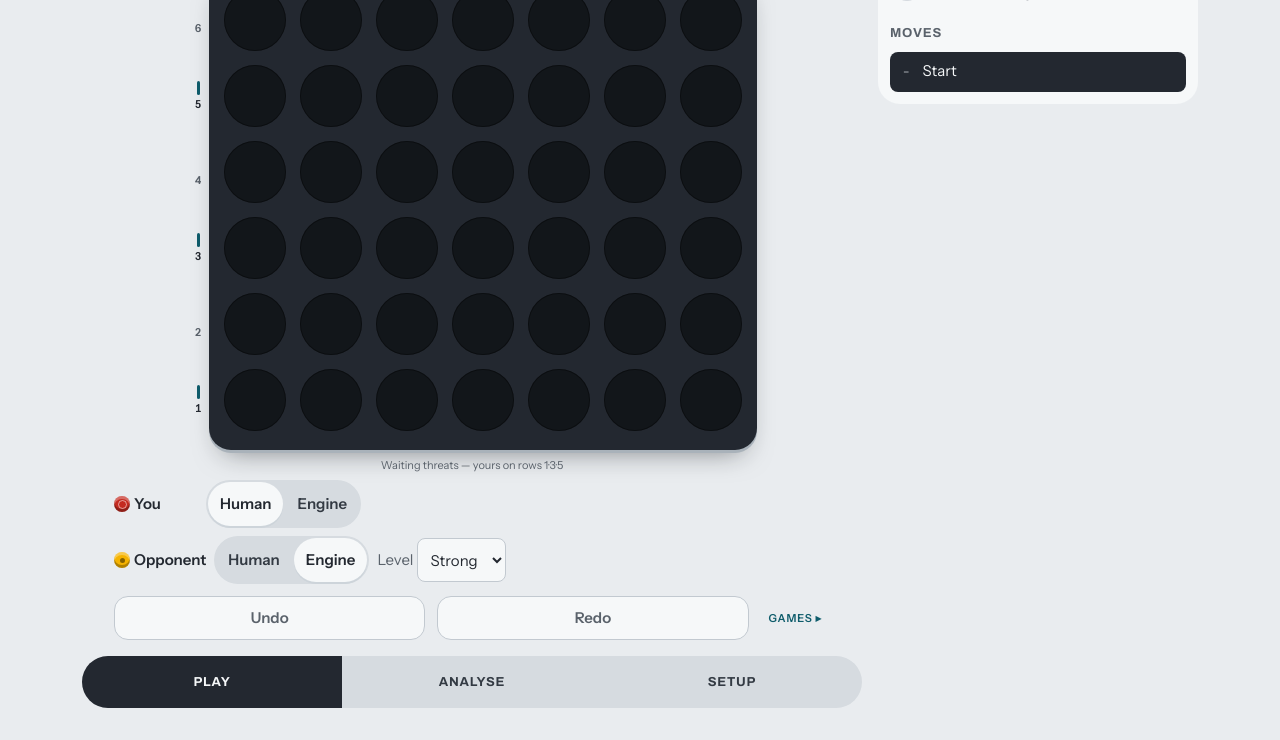
Test: setup verdict surfacing › Done is enabled for a legal, empty position
The width and height of the screenshot is (1280, 740).
(page scrolled)
Click the tab "SETUP" at (732, 682), box x1=602 y1=656 x2=862 y2=708
(page scrolled)
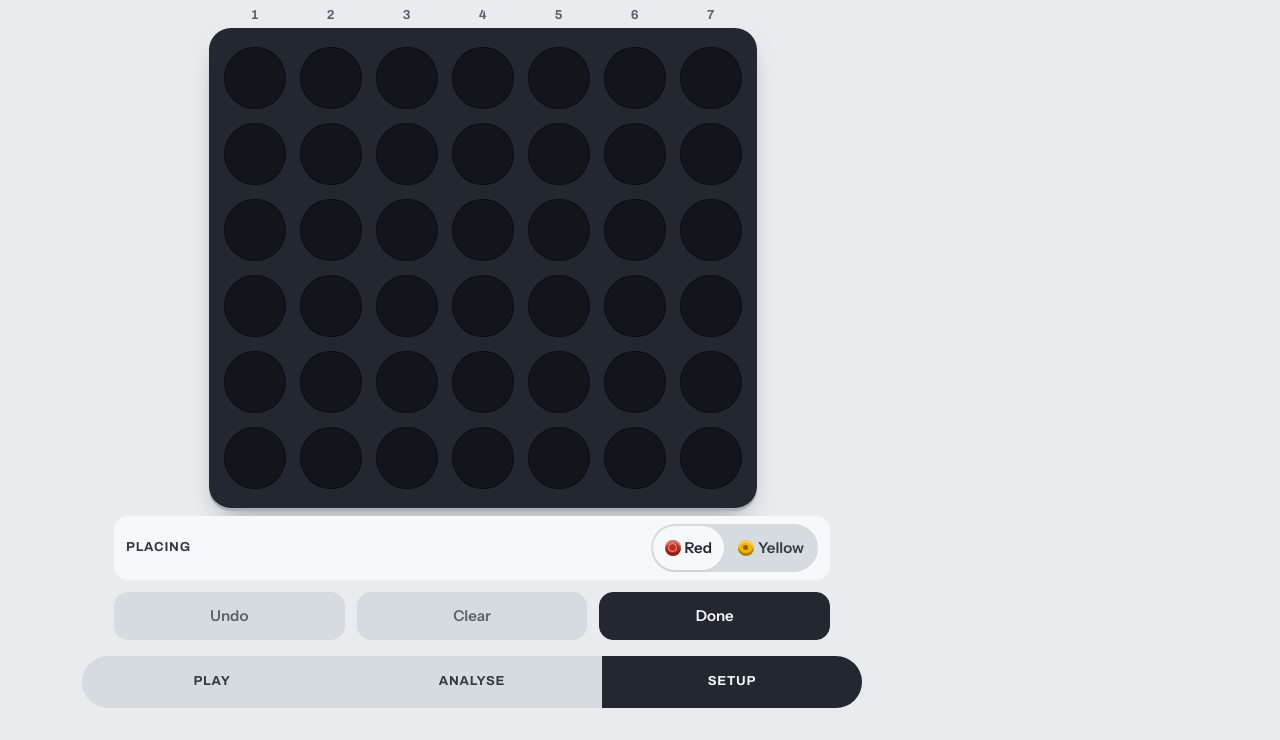
Expected: the button "Done" is enabled, x1=599 y1=592 x2=830 y2=640
